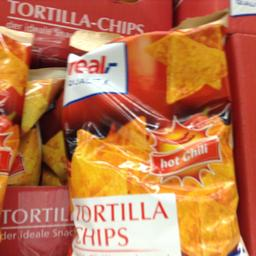chips: (64, 26, 242, 255)
